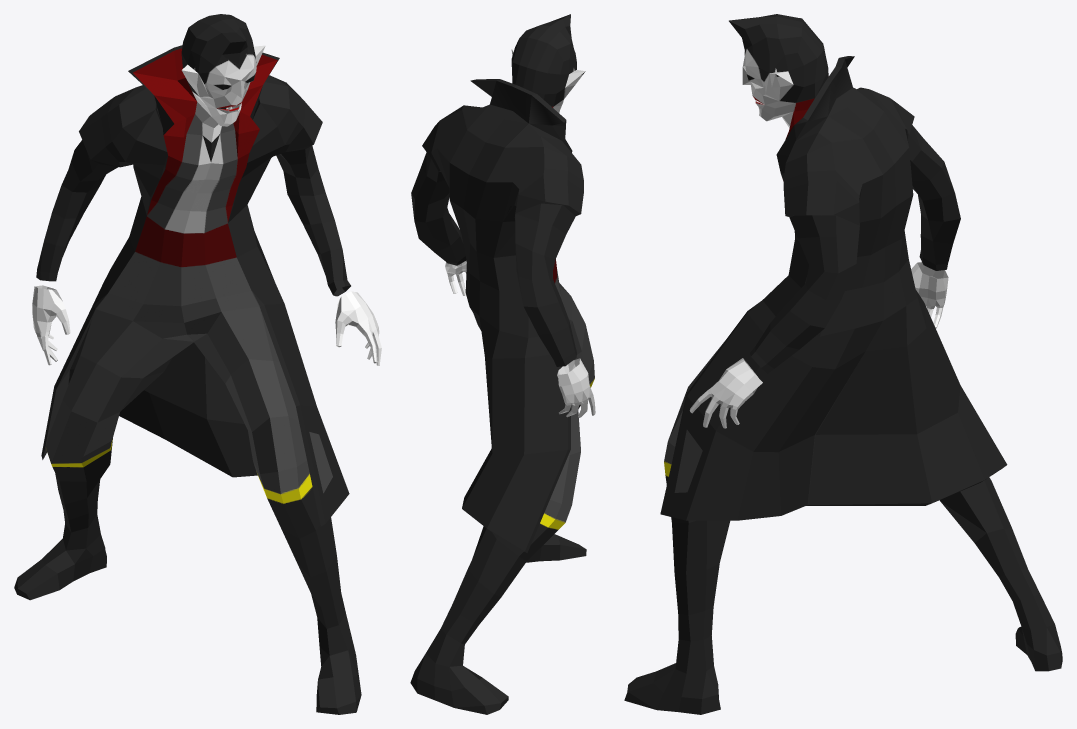
Rendered from VampireIdle(3).obj.
3 views of the same model, side by side, from view 1: azimuth 30°, elevation 25°; view 2: azimuth 150°, elevation 25°; view 3: azimuth 270°, elevation 25° (orthographic). The views are drawn at different scales.
Visible parts, largest first — view 1: Plane002; view 2: Plane002; view 3: Plane002.
Boxes of the visible parts, box(x1,y1,x2,y2) form: Plane002: box(14, 14, 381, 714); Plane002: box(410, 14, 595, 714); Plane002: box(624, 14, 1062, 714).
Size of the model in its own units: 122 by 305 by 185.
